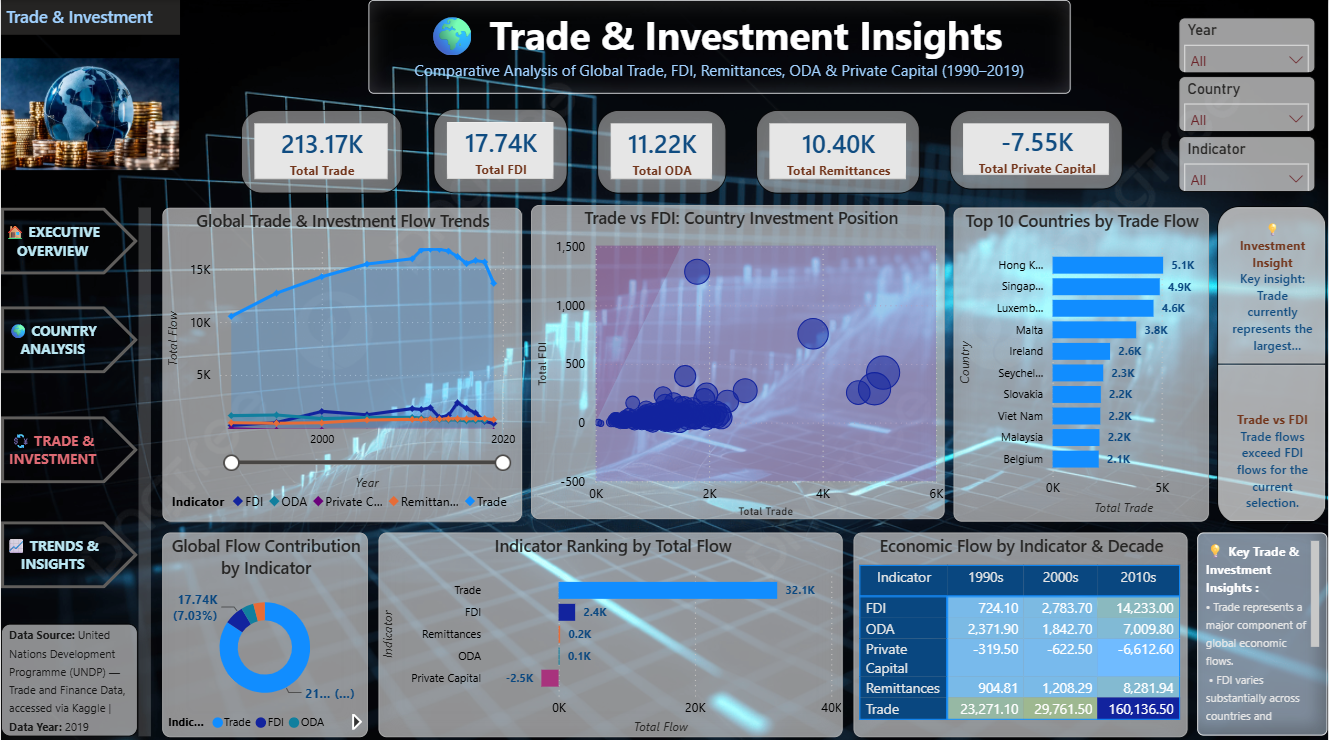

Layout of this report page (visuals, bound fields, positions):
{"tool":"powerbi","page":{"name":"03. Trade & Investment Insights","canvas":[1280,720],"ordinal":2},"visuals":[{"type":"textbox","box":[355,0,677.6,90.7],"z":0},{"type":"slicer","fields":{"Values":["Dim_Date.Year"]},"box":[1137,17.4,131.6,53.9],"z":0,"group":"g1"},{"type":"textbox","box":[0,0,172.8,33.3],"z":1000},{"type":"slicer","fields":{"Values":["Dim_Country.Country"]},"box":[1137,74.5,131.6,53.9],"z":1000,"group":"g1"},{"type":"cardVisual","fields":{"Data":["My Measures.Total Trade"]},"box":[231.6,105.8,155.9,80.5],"z":2000,"group":"g2"},{"type":"slicer","fields":{"Values":["Dim_Indicator.Indicator"]},"box":[1137,131.6,131.6,53.9],"z":2000,"group":"g1"},{"type":"lineChart","title":"Global Trade & Investment Flow Trends","fields":{"Category":["Dim_Date.Year"],"Y":["My Measures.Total Flow"],"Series":["Dim_Indicator.Indicator"]},"box":[155.9,199.9,347,303],"z":2000},{"type":"cardVisual","fields":{"Data":["My Measures.Total FDI"]},"box":[417.6,105,129.5,81.7],"z":3000,"group":"g2"},{"type":"scatterChart","title":"Trade vs FDI: Country Investment Position","fields":{"X":["My Measures.Total Trade"],"Y":["My Measures.Total FDI"],"Category":["Dim_Country.Country"],"Size":["My Measures.Total Flow"]},"box":[511.5,197.9,399.3,302.8],"z":3000},{"type":"cardVisual","fields":{"Data":["My Measures.Total ODA"]},"box":[574.9,105.8,124.5,80.5],"z":4000,"group":"g2"},{"type":"clusteredBarChart","title":"Top 10 Countries by Trade Flow","fields":{"Category":["Dim_Country.Country"],"Y":["My Measures.Total Trade"]},"box":[919.1,199.9,246.4,303],"z":4000},{"type":"cardVisual","fields":{"Data":["My Measures.Total Remittances"]},"box":[728.3,105.8,158.4,80.5],"z":5000,"group":"g2"},{"type":"donutChart","title":"Global Flow Contribution by Indicator","fields":{"Category":["Dim_Indicator.Indicator"],"Y":["My Measures.Total Flow"]},"box":[156,513.7,198.8,197.2],"z":5000},{"type":"cardVisual","fields":{"Data":["My Measures.Total Private Capital"]},"box":[915.6,105.8,167.2,76.7],"z":6000,"group":"g2"},{"type":"textbox","box":[132.7,200.3,12.1,510.3],"z":6000},{"type":"group","id":"g1","title":"Group 2","box":[1137,17.4,131.6,168.1],"z":7000},{"type":"actionButton","box":[0,200.8,132.1,64.8],"z":8000},{"type":"actionButton","box":[0,295.4,132.1,64.8],"z":9000},{"type":"actionButton","box":[0,401.6,132.1,64.8],"z":10000},{"type":"actionButton","box":[0,502.7,132.1,64.8],"z":11000},{"type":"textbox","box":[0,602.4,132.1,108.8],"z":12000},{"type":"image","box":[0,33.7,172.3,152.9],"z":13000},{"type":"pivotTable","title":"Economic Flow by Indicator & Decade","fields":{"Rows":["Dim_Indicator.Indicator"],"Columns":["Dim_Date.Decade"],"Values":["My Measures.Total Flow"]},"box":[822.7,514,322.5,197.8],"z":14000},{"type":"clusteredBarChart","title":"Indicator Ranking by Total Flow","fields":{"Category":["Dim_Indicator.Indicator"],"Y":["My Measures.Total Flow"]},"box":[363.9,513.7,448,197.2],"z":15000},{"type":"cardVisual","fields":{"Data":["My Measures.Trade Investment Insight","My Measures.Trade vs FDI Insight"]},"box":[1174.4,198.7,105.6,306.8],"z":16000},{"type":"group","id":"g2","title":"Group 1","box":[231.6,105,850.5,82],"z":17000},{"type":"textbox","box":[1154.3,514.3,125.7,196.1],"z":18000}]}

Visuals, with their boxes in screenshot pixels (x1, y1, x2, y2), scaled from the page's 1280x720 canvas onto the 1329x740 screenshot:
textbox: 369,0,1072,93
slicer - Dim_Date.Year: 1181,18,1317,73
textbox: 0,0,179,34
slicer - Dim_Country.Country: 1181,77,1317,132
cardVisual - My Measures.Total Trade: 240,109,402,191
slicer - Dim_Indicator.Indicator: 1181,135,1317,191
"Global Trade & Investment Flow Trends" lineChart: 162,205,522,517
cardVisual - My Measures.Total FDI: 434,108,568,192
"Trade vs FDI: Country Investment Position" scatterChart: 531,203,946,515
cardVisual - My Measures.Total ODA: 597,109,726,191
"Top 10 Countries by Trade Flow" clusteredBarChart: 954,205,1210,517
cardVisual - My Measures.Total Remittances: 756,109,921,191
"Global Flow Contribution by Indicator" donutChart: 162,528,368,731
cardVisual - My Measures.Total Private Capital: 951,109,1124,188
textbox: 138,206,150,730
"Group 2" group: 1181,18,1317,191
actionButton: 0,206,137,273
actionButton: 0,304,137,370
actionButton: 0,413,137,479
actionButton: 0,517,137,583
textbox: 0,619,137,731
image: 0,35,179,192
"Economic Flow by Indicator & Decade" pivotTable: 854,528,1189,732
"Indicator Ranking by Total Flow" clusteredBarChart: 378,528,843,731
cardVisual - My Measures.Trade Investment Insight x My Measures.Trade vs FDI Insight: 1219,204,1328,520
"Group 1" group: 240,108,1124,192
textbox: 1198,529,1328,730
